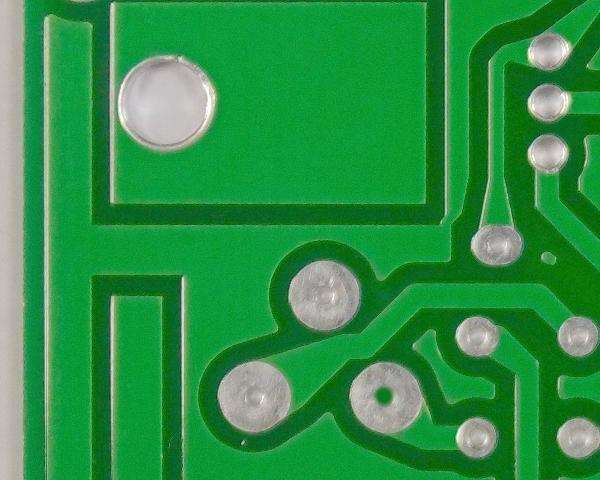missing hole: (347, 359, 427, 436)
